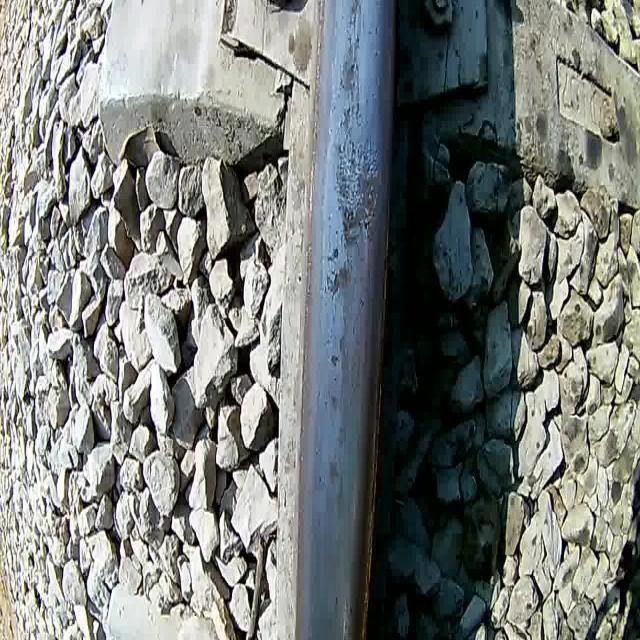Squats: (338, 168, 385, 250), (323, 242, 355, 300), (337, 51, 360, 95), (324, 451, 342, 489), (343, 0, 366, 19), (327, 388, 341, 417), (327, 347, 340, 372)
